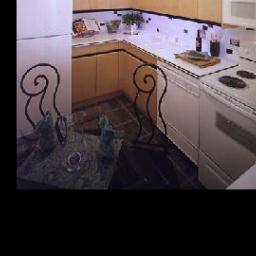Electrodomestico: (197, 49, 256, 180), (19, 0, 70, 125), (162, 59, 200, 162)
